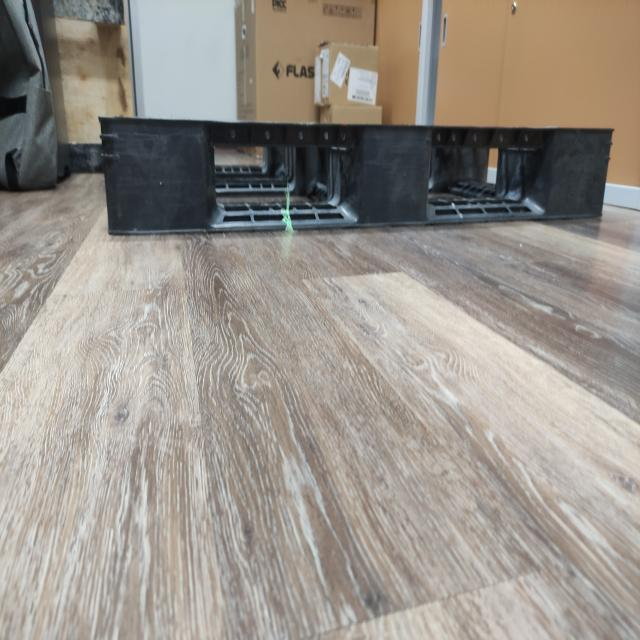block: (95, 117, 212, 238), (357, 121, 432, 224), (549, 124, 615, 226)
front: (90, 110, 618, 232)
